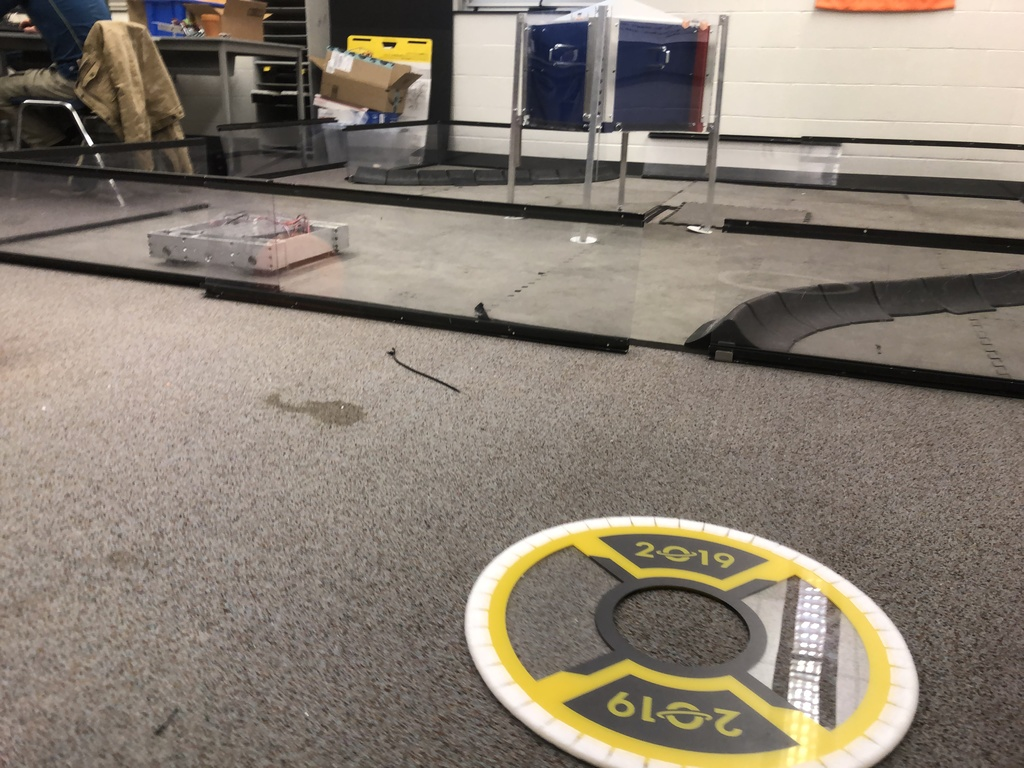hatch_panel: (454, 499, 922, 768)
